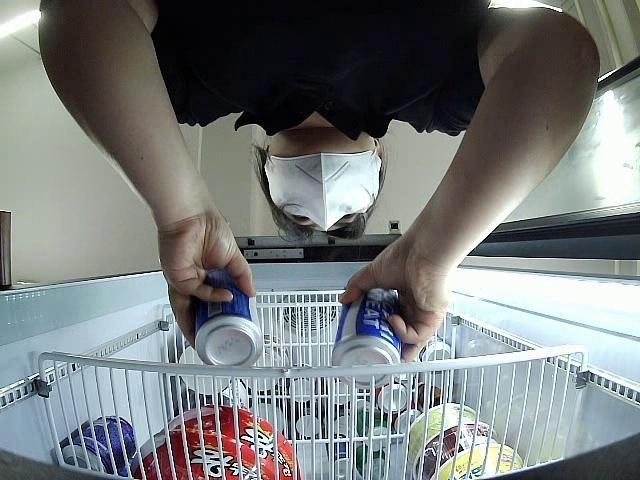13_pocariSweat: (187, 268, 264, 365), (334, 285, 404, 388)
